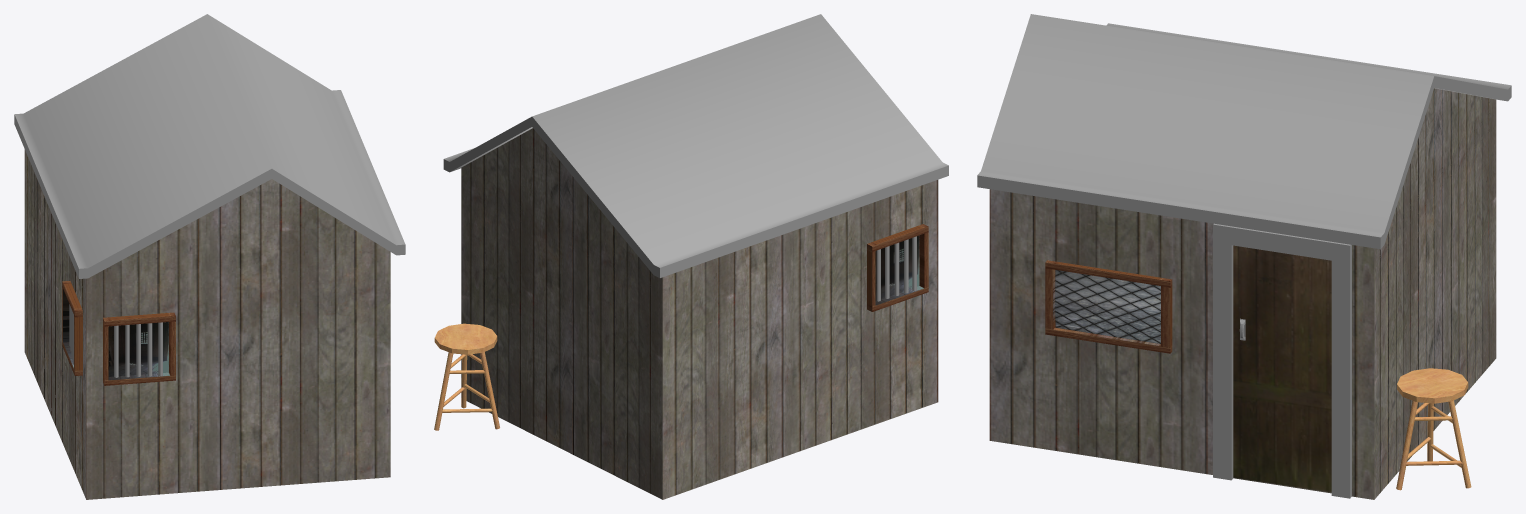
Rendered from Jail_03_06.fbx.
3 renders of one model, left to right at view 1: azimuth 30°, elevation 25°; view 2: azimuth 150°, elevation 25°; view 3: azimuth 270°, elevation 25°, orthographic. The views are drawn at different scales.
Parts seen in each view (by area): view 1: polySurface124, pCube222, pCube221; view 2: polySurface124, polySurface122, pCube221; view 3: polySurface124, pCube220, polySurface122.
Boxes of the visible parts, x1=… form: polySurface124: x1=14, y1=14, x2=405, y2=499; pCube222: x1=103, y1=312, x2=175, y2=385; pCube221: x1=62, y1=281, x2=82, y2=375; polySurface124: x1=443, y1=14, x2=948, y2=499; polySurface122: x1=434, y1=323, x2=499, y2=430; pCube221: x1=867, y1=224, x2=928, y2=311; polySurface124: x1=977, y1=14, x2=1511, y2=499; pCube220: x1=1045, y1=260, x2=1172, y2=353; polySurface122: x1=1396, y1=368, x2=1471, y2=490.
Bounding box in the file's own units: 105 × 84.47 × 111.
